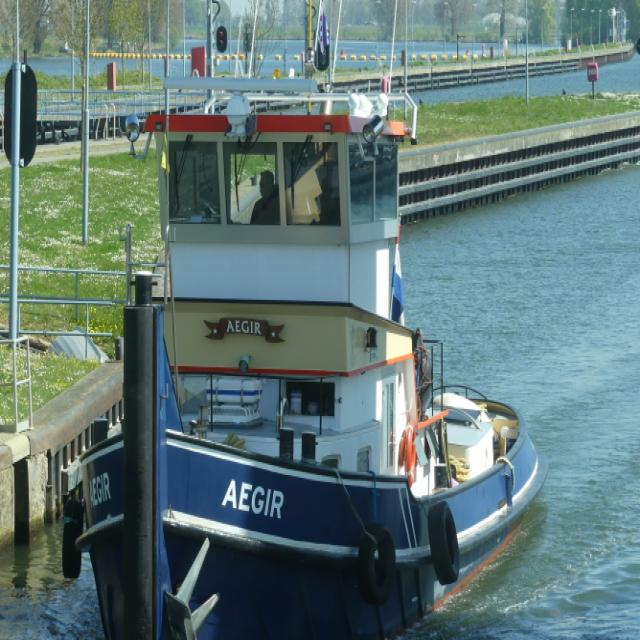tugboat: (59, 67, 556, 640)
